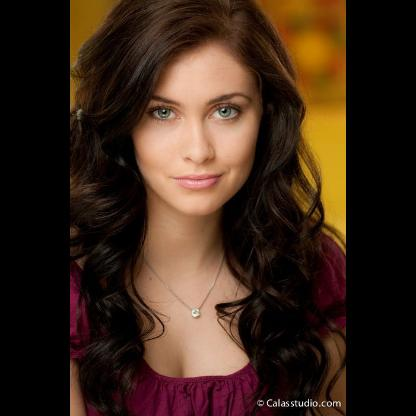Female: (134, 39, 258, 216)
